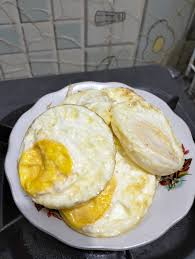Telur ceplok: (16, 105, 119, 210), (58, 171, 158, 240), (110, 96, 186, 176)
